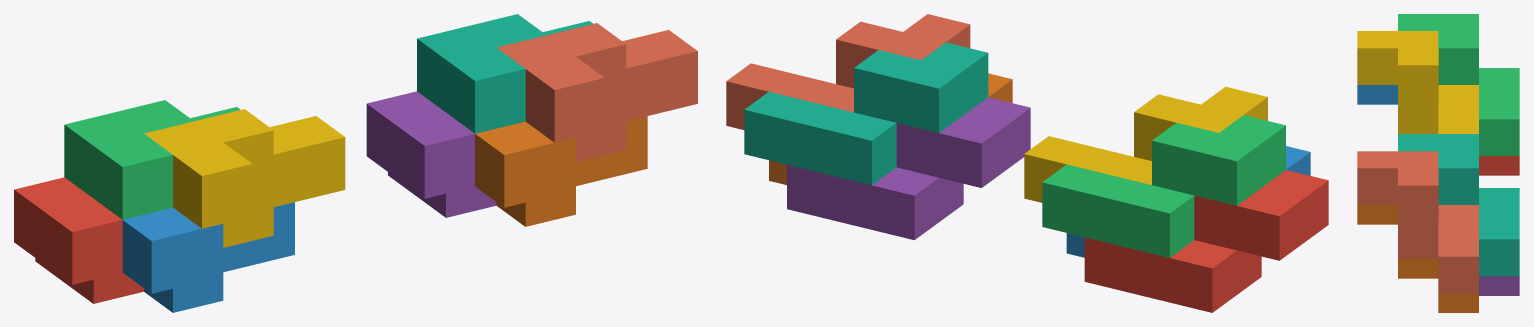
The model's file is tiling.obj.
3 renders of one model, left to right at view 1: azimuth 30°, elevation 25°; view 2: azimuth 150°, elevation 25°; view 3: azimuth 270°, elevation 25°, orthographic. The views are drawn at different scales.
Parts seen in each view (by area): view 1: copy_1_domain_8, copy_1_domain_4, copy_1_domain_2, copy_1_domain_6, copy_1_domain_3, copy_1_domain_7, copy_1_domain_1, copy_1_domain_5; view 2: copy_1_domain_7, copy_1_domain_3, copy_1_domain_1, copy_1_domain_5, copy_1_domain_8, copy_1_domain_4, copy_1_domain_2, copy_1_domain_6; view 3: copy_1_domain_8, copy_1_domain_4, copy_1_domain_7, copy_1_domain_3, copy_1_domain_6, copy_1_domain_1, copy_1_domain_2, copy_1_domain_5.
Part boxes in pixels (bbox=[...]): copy_1_domain_8: bbox=[496, 23, 697, 161]; copy_1_domain_4: bbox=[144, 109, 345, 247]; copy_1_domain_2: bbox=[122, 202, 294, 312]; copy_1_domain_6: bbox=[475, 116, 647, 226]; copy_1_domain_3: bbox=[64, 100, 240, 219]; copy_1_domain_7: bbox=[417, 14, 592, 133]; copy_1_domain_1: bbox=[14, 177, 143, 303]; copy_1_domain_5: bbox=[366, 91, 496, 217]; copy_1_domain_7: bbox=[744, 42, 988, 185]; copy_1_domain_3: bbox=[1042, 115, 1285, 257]; copy_1_domain_1: bbox=[1084, 170, 1328, 312]; copy_1_domain_5: bbox=[787, 97, 1030, 240]; copy_1_domain_8: bbox=[726, 14, 970, 129]; copy_1_domain_4: bbox=[1024, 86, 1267, 202]; copy_1_domain_2: bbox=[1066, 146, 1310, 257]; copy_1_domain_6: bbox=[769, 73, 1012, 184]; copy_1_domain_8: bbox=[1357, 151, 1478, 293]; copy_1_domain_4: bbox=[1357, 31, 1478, 133]; copy_1_domain_7: bbox=[1398, 134, 1519, 276]; copy_1_domain_3: bbox=[1398, 14, 1519, 155]; copy_1_domain_6: bbox=[1357, 205, 1478, 312]; copy_1_domain_1: bbox=[1479, 156, 1519, 175]; copy_1_domain_2: bbox=[1357, 85, 1397, 104]; copy_1_domain_5: bbox=[1479, 276, 1519, 295].
Size of the model in its own units: 13 by 3 by 4.
